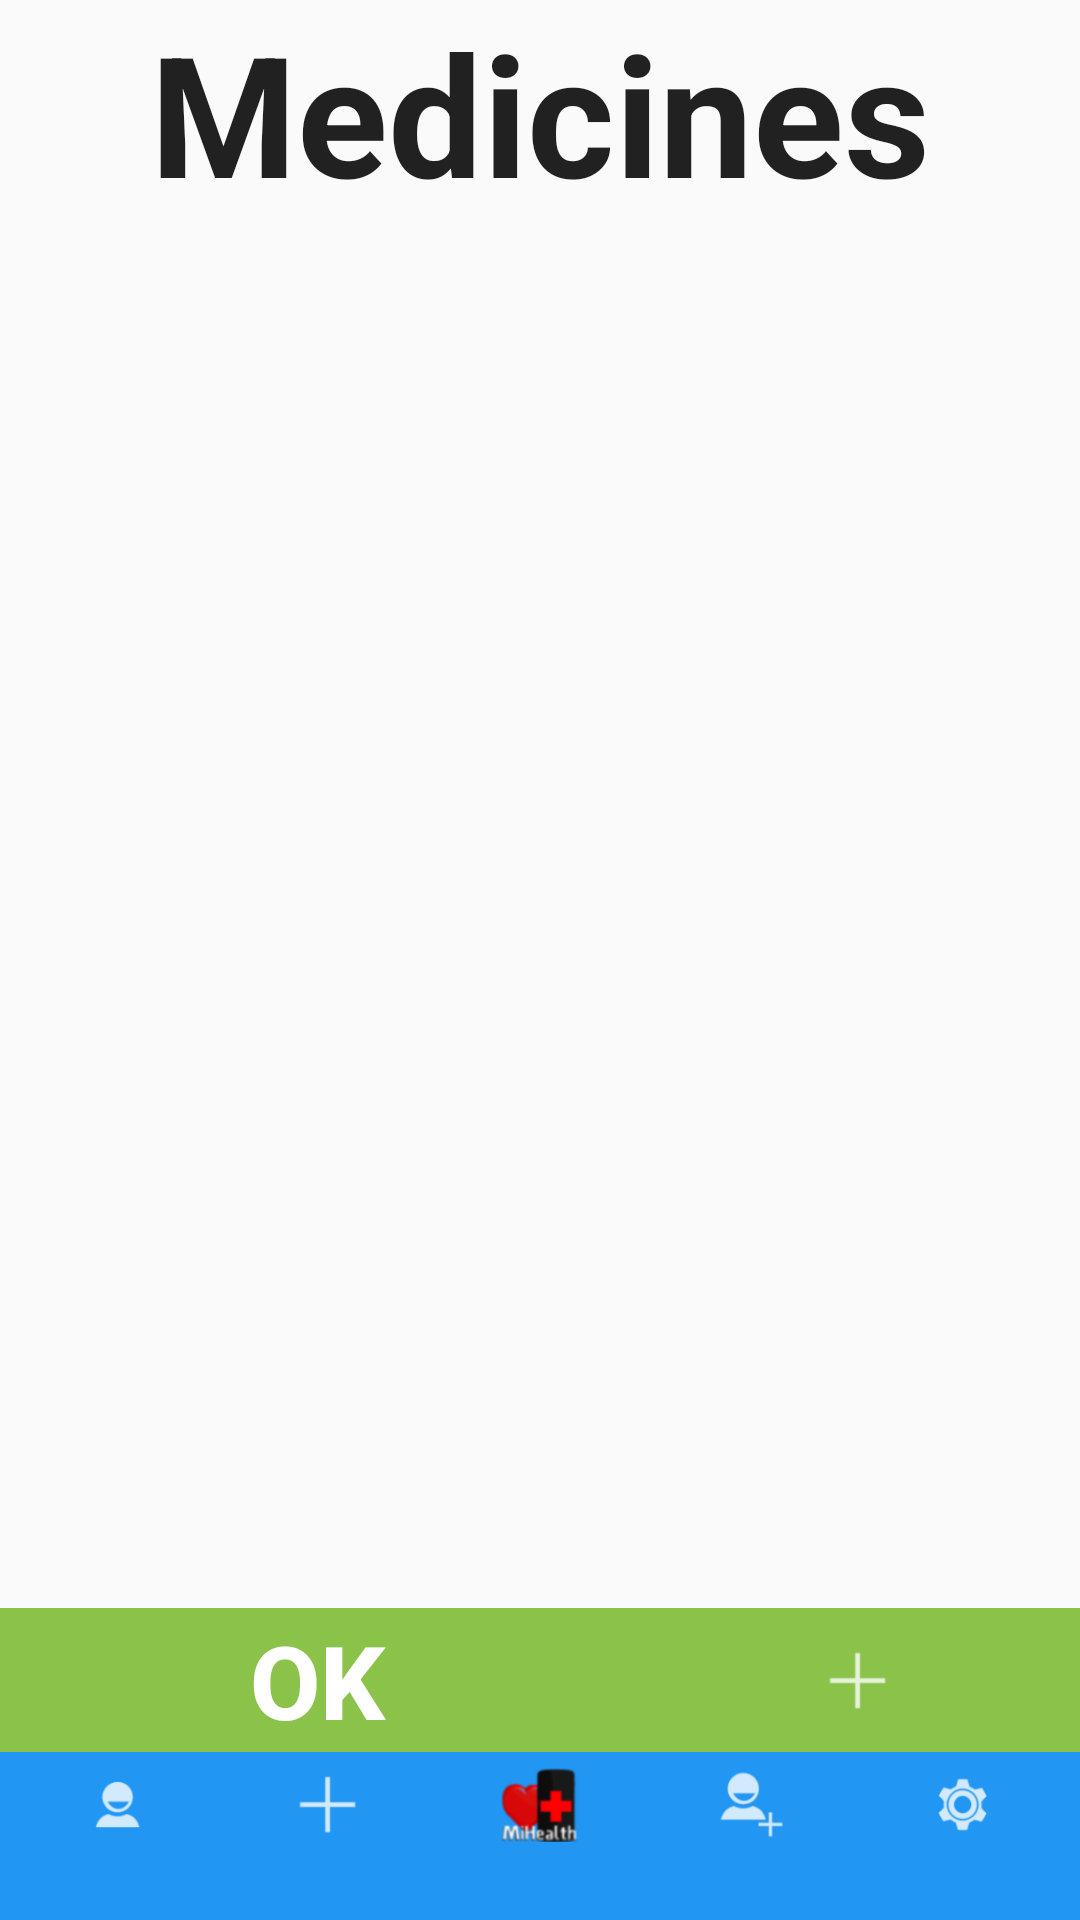

Screen size 1080w x 1920h. Icon name, then its center in pixels as (x,y):
Contacts: (751,1804)
Settings: (962,1804)
User: (118,1805)
